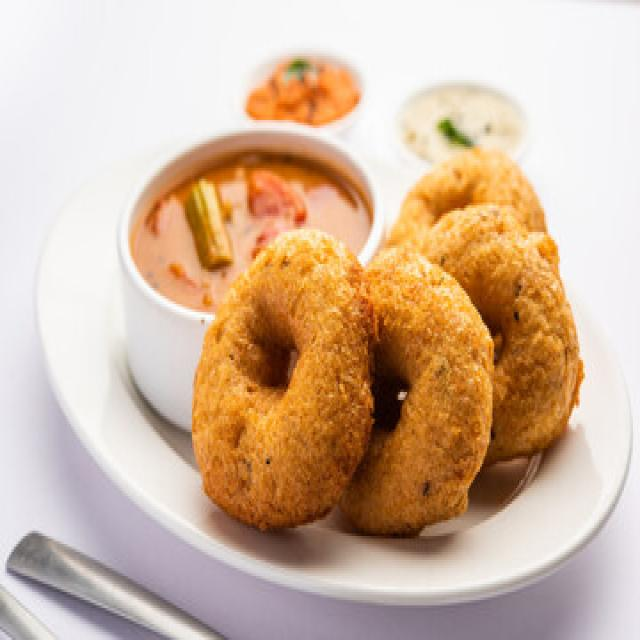SAMBAR: (109, 129, 382, 346)
VADA: (149, 128, 615, 590)
